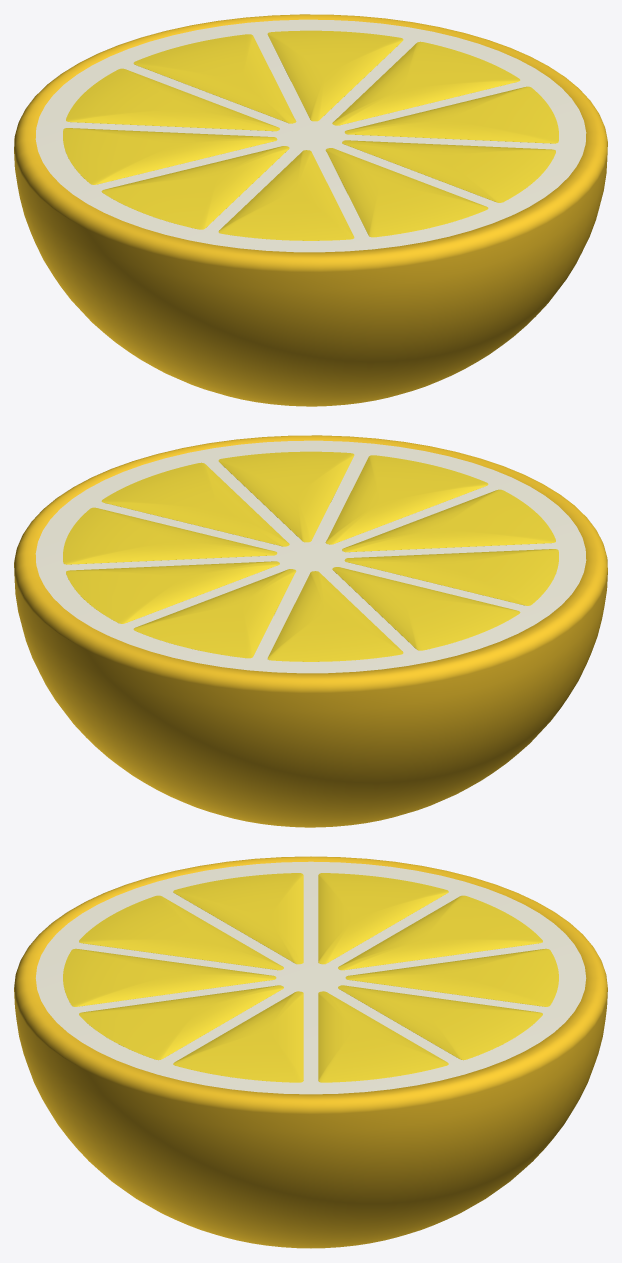
The model's file is LemonHalf.fbx.
3 renders of one model, top to bottom at view 1: azimuth 30°, elevation 25°; view 2: azimuth 150°, elevation 25°; view 3: azimuth 270°, elevation 25°, orthographic.
Parts seen in each view (by area): view 1: LemonHalf::Peel, LemonHalf::CutPith, LemonHalf::PulpSegment9, LemonHalf::PulpSegment3, LemonHalf::PulpSegment8, LemonHalf::PulpSegment4, LemonHalf::PulpSegment0, LemonHalf::PulpSegment5, LemonHalf::PulpSegment2, LemonHalf::PulpSegment7, LemonHalf::PulpSegment1, LemonHalf::PulpSegment6; view 2: LemonHalf::Peel, LemonHalf::CutPith, LemonHalf::PulpSegment0, LemonHalf::PulpSegment6, LemonHalf::PulpSegment1, LemonHalf::PulpSegment5, LemonHalf::PulpSegment4, LemonHalf::PulpSegment9, LemonHalf::PulpSegment7, LemonHalf::PulpSegment2, LemonHalf::PulpSegment8, LemonHalf::PulpSegment3; view 3: LemonHalf::Peel, LemonHalf::CutPith, LemonHalf::PulpSegment2, LemonHalf::PulpSegment7, LemonHalf::PulpSegment3, LemonHalf::PulpSegment6, LemonHalf::PulpSegment1, LemonHalf::PulpSegment8, LemonHalf::PulpSegment0, LemonHalf::PulpSegment9, LemonHalf::PulpSegment4, LemonHalf::PulpSegment5.
Boxes of the visible parts, x1,y1,x2,y2 form: LemonHalf::Peel: (14, 14, 607, 406); LemonHalf::CutPith: (35, 19, 586, 252); LemonHalf::PulpSegment9: (344, 86, 558, 143); LemonHalf::PulpSegment3: (66, 68, 279, 131); LemonHalf::PulpSegment8: (342, 140, 555, 202); LemonHalf::PulpSegment4: (63, 128, 277, 184); LemonHalf::PulpSegment0: (332, 41, 520, 125); LemonHalf::PulpSegment5: (101, 146, 289, 229); LemonHalf::PulpSegment2: (133, 34, 296, 123); LemonHalf::PulpSegment7: (325, 148, 488, 237); LemonHalf::PulpSegment1: (267, 30, 403, 121); LemonHalf::PulpSegment6: (218, 150, 354, 240); LemonHalf::Peel: (14, 435, 607, 827); LemonHalf::CutPith: (35, 440, 586, 673); LemonHalf::PulpSegment0: (63, 507, 277, 564); LemonHalf::PulpSegment6: (342, 489, 555, 552); LemonHalf::PulpSegment1: (66, 561, 279, 623); LemonHalf::PulpSegment5: (344, 549, 558, 605); LemonHalf::PulpSegment4: (332, 567, 520, 650); LemonHalf::PulpSegment9: (101, 462, 289, 546); LemonHalf::PulpSegment7: (325, 455, 488, 544); LemonHalf::PulpSegment2: (133, 569, 296, 658); LemonHalf::PulpSegment8: (218, 451, 354, 542); LemonHalf::PulpSegment3: (267, 571, 403, 661); LemonHalf::Peel: (14, 856, 607, 1248); LemonHalf::CutPith: (35, 861, 586, 1094); LemonHalf::PulpSegment2: (345, 948, 558, 1006); LemonHalf::PulpSegment7: (63, 948, 276, 1006); LemonHalf::PulpSegment3: (338, 895, 542, 970); LemonHalf::PulpSegment6: (79, 895, 283, 970); LemonHalf::PulpSegment1: (338, 985, 542, 1060); LemonHalf::PulpSegment8: (79, 985, 283, 1060); LemonHalf::PulpSegment0: (318, 991, 448, 1082); LemonHalf::PulpSegment9: (173, 991, 303, 1082); LemonHalf::PulpSegment4: (318, 873, 448, 964); LemonHalf::PulpSegment5: (173, 873, 303, 964).
Size of the model in its own units: 6 by 2.78 by 6.
